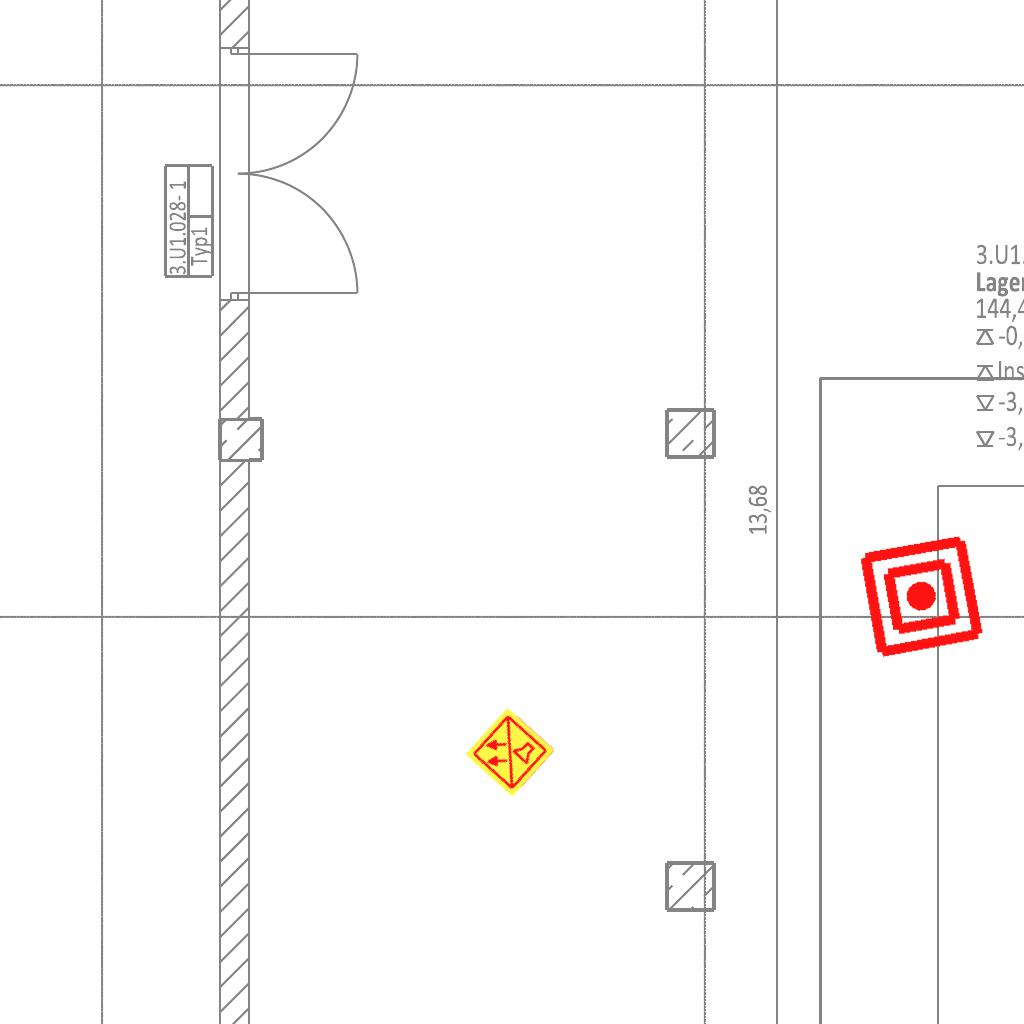NAM-Nichtautomatischer_Melder: (856, 531, 987, 662)
OKW_Multisensormelder_(Kombination_optischer_Rauch-Kahlenmonoxid_Waerme-Melder): (463, 705, 557, 799)
